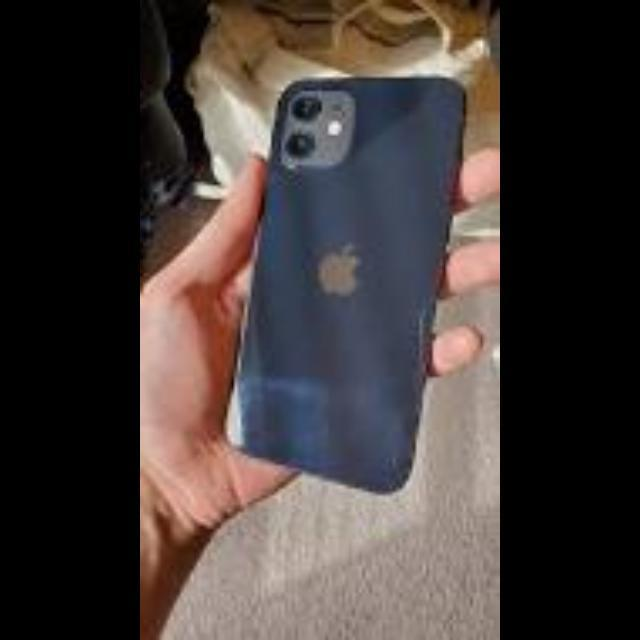PhoneUse: (204, 71, 480, 481)
